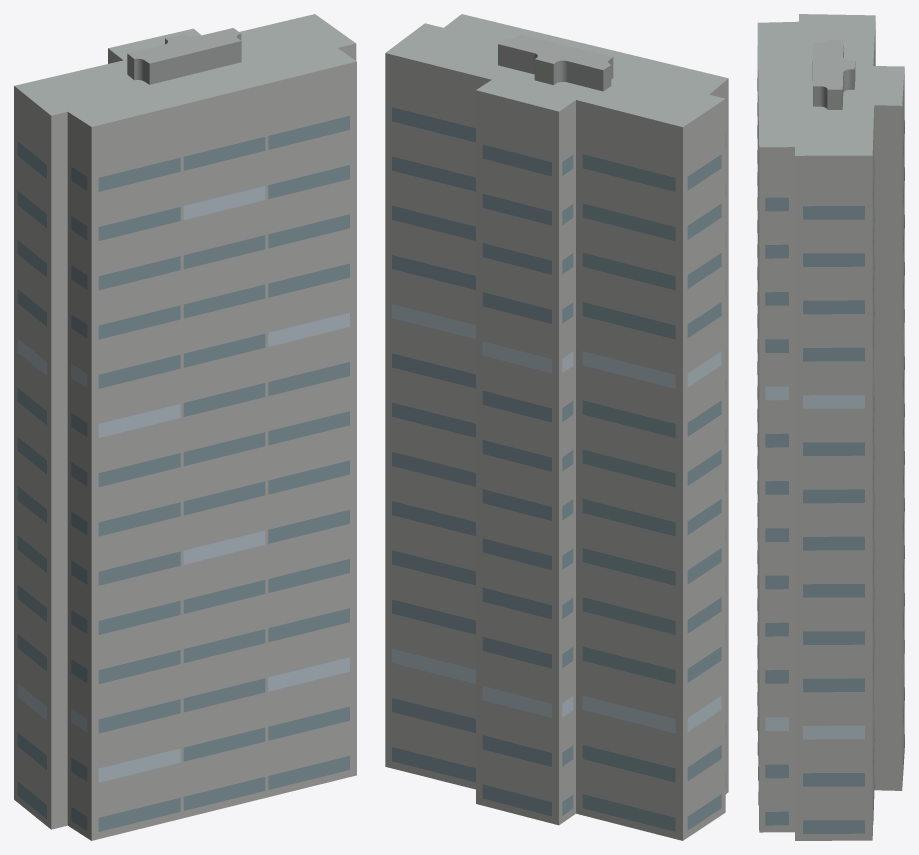
The model's file is fallback-gangdong-lotte-castle-first-116.glb.
3 renders of one model, left to right at view 1: azimuth 30°, elevation 25°; view 2: azimuth 150°, elevation 25°; view 3: azimuth 270°, elevation 25°, orthographic. The views are drawn at different scales.
Parts seen in each view (by area): view 1: fallback-gangdong-lotte-castle-first-116; view 2: fallback-gangdong-lotte-castle-first-116; view 3: fallback-gangdong-lotte-castle-first-116.
Boxes of the visible parts, x1,y1,x2,y2 form: fallback-gangdong-lotte-castle-first-116: (14, 14, 356, 840); fallback-gangdong-lotte-castle-first-116: (385, 14, 728, 840); fallback-gangdong-lotte-castle-first-116: (757, 14, 904, 840).
Bounding box in the file's own units: 35.84 × 83 × 15.75.
